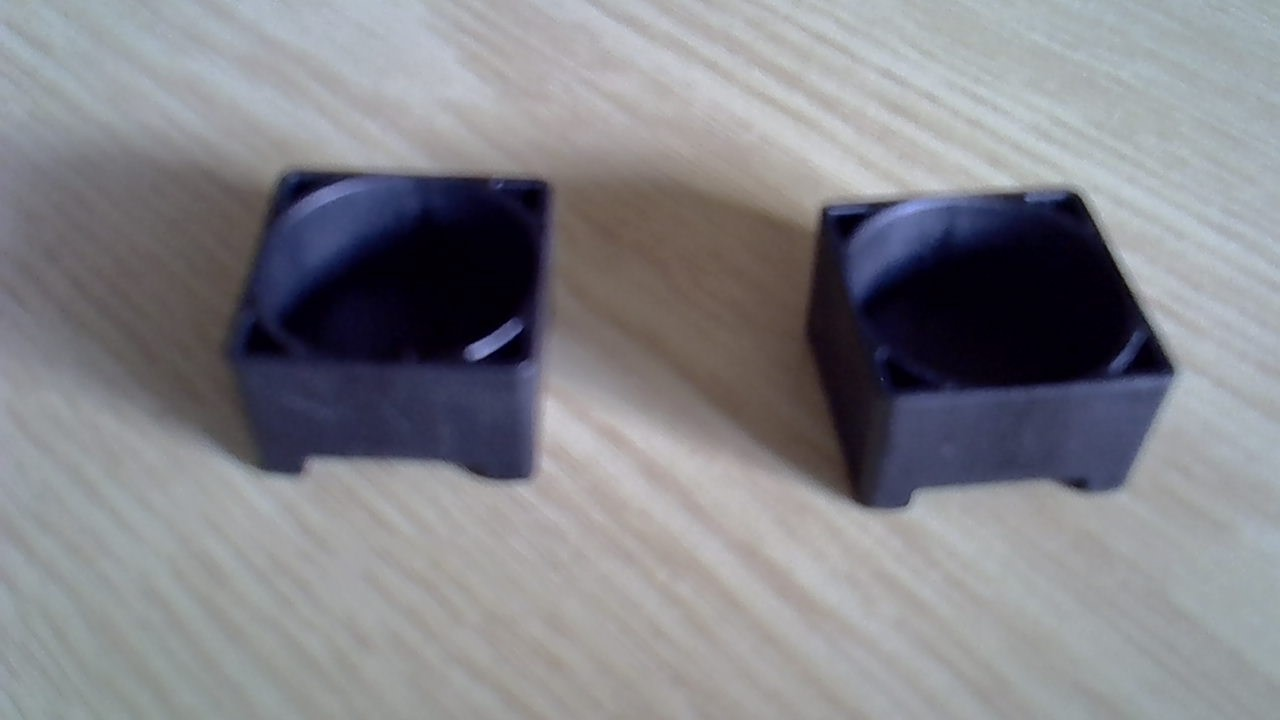Behaelter: (807, 190, 1177, 514), (223, 167, 550, 489)
